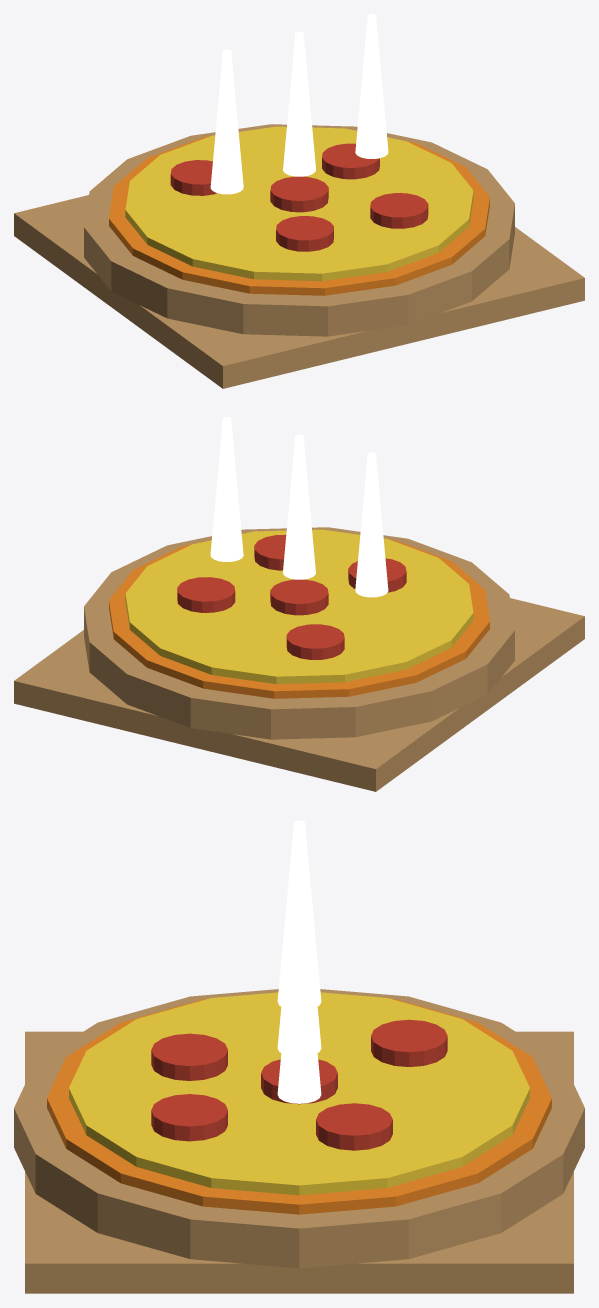
The model's file is pizza-lod0.glb.
3 renders of one model, top to bottom at view 1: azimuth 30°, elevation 25°; view 2: azimuth 150°, elevation 25°; view 3: azimuth 270°, elevation 25°, orthographic. The views are drawn at different scales.
Parts seen in each view (by area): view 1: pizza; view 2: pizza; view 3: pizza.
Boxes of the visible parts, <box> form: pizza: <box>14,14,584,388</box>; pizza: <box>14,417,584,791</box>; pizza: <box>14,820,584,1293</box>.
Size of the model in its own units: 0.52 by 0.31 by 0.52.
